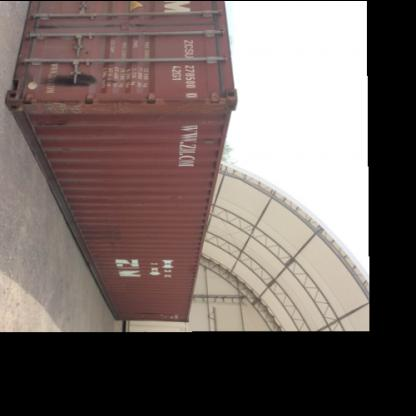Damage: (26, 97, 96, 131), (86, 212, 132, 246), (44, 66, 98, 92), (188, 129, 219, 150), (78, 42, 100, 60), (105, 75, 123, 89), (189, 259, 199, 277)
